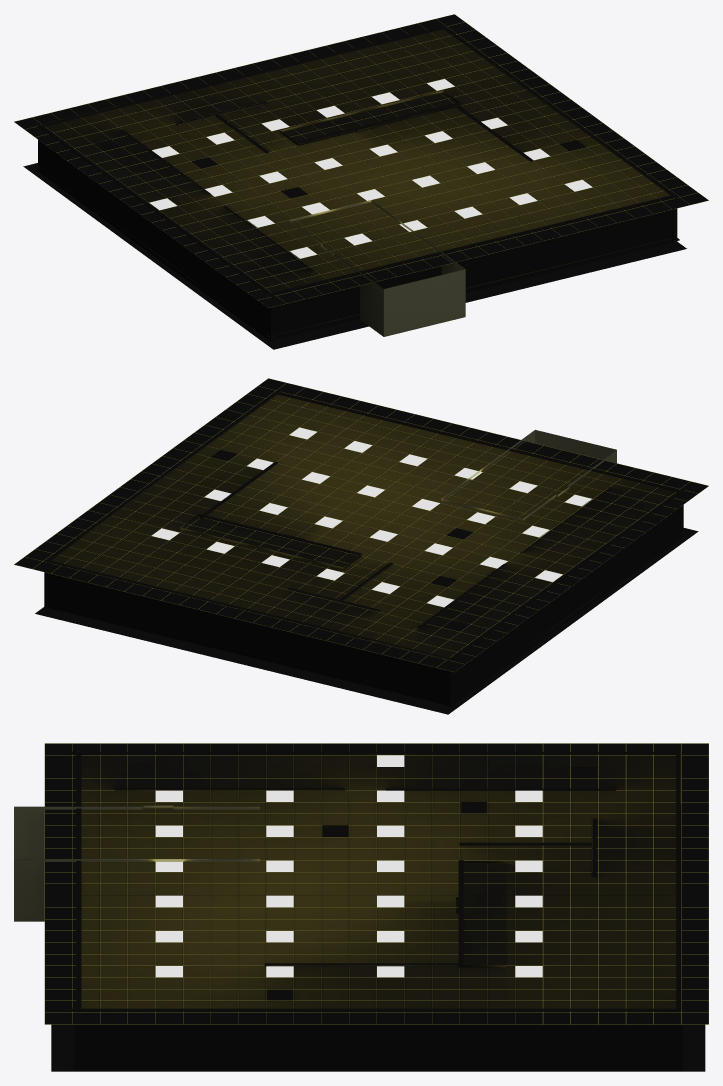
The model's file is backroom_this_model_will_give_you_nightmare.glb.
The picture shows the model from 3 angles, top to bottom: view 1: azimuth 30°, elevation 25°; view 2: azimuth 150°, elevation 25°; view 3: azimuth 270°, elevation 25°; orthographic projection. The views are drawn at different scales.
Parts seen in each view (by area): view 1: Ceiling_6_12, BackWall_Double_BR.028_3_8, Air_Vent.005_5_2, Piece1_2_14, Carpet_v1.001_4_10; view 2: Ceiling_6_12, BackWall_Double_BR.028_3_8, Air_Vent.005_5_2, Carpet_v1.001_4_10, Piece1_2_14; view 3: Ceiling_6_12, BackWall_Double_BR.028_3_8, Air_Vent.005_5_2, Piece1_2_14, Carpet_v1.001_4_10.
Boxes of the visible parts, x1=… form: Ceiling_6_12: x1=14, y1=14, x2=708, y2=307; BackWall_Double_BR.028_3_8: x1=37, y1=26, x2=679, y2=341; Air_Vent.005_5_2: x1=15, y1=14, x2=708, y2=307; Piece1_2_14: x1=289, y1=200, x2=465, y2=336; Carpet_v1.001_4_10: x1=23, y1=163, x2=686, y2=349; Ceiling_6_12: x1=14, y1=378, x2=708, y2=671; BackWall_Double_BR.028_3_8: x1=44, y1=389, x2=686, y2=706; Air_Vent.005_5_2: x1=14, y1=378, x2=708, y2=672; Carpet_v1.001_4_10: x1=35, y1=528, x2=698, y2=714; Piece1_2_14: x1=441, y1=430, x2=616, y2=520; Ceiling_6_12: x1=45, y1=743, x2=708, y2=1024; BackWall_Double_BR.028_3_8: x1=68, y1=751, x2=682, y2=1070; Air_Vent.005_5_2: x1=44, y1=743, x2=708, y2=1024; Piece1_2_14: x1=14, y1=805, x2=259, y2=921; Carpet_v1.001_4_10: x1=51, y1=1024, x2=705, y2=1071.
Bounding box in the file's own units: 27.36 × 2.87 × 28.62.
12 materials, 9 textured.
